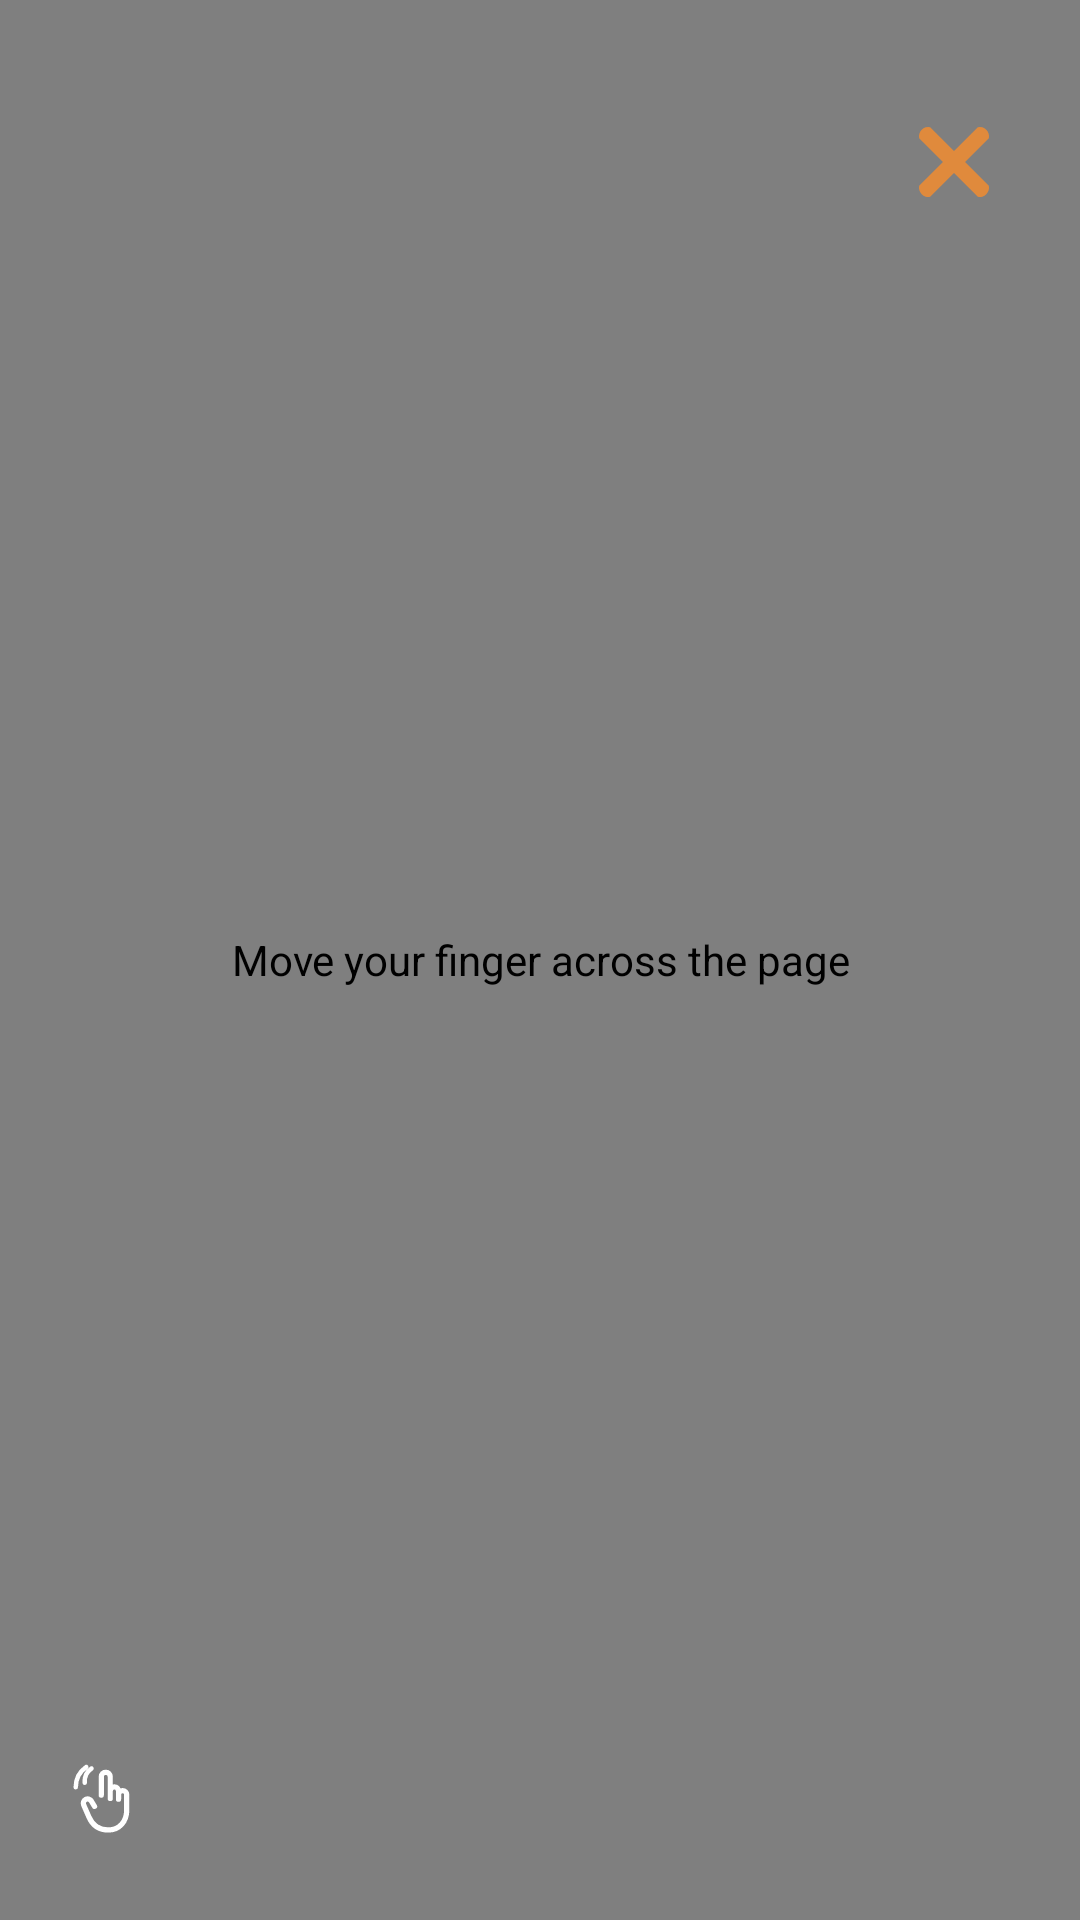

Screen size 1080px×1920px. Icon name, then its box in pixels as (x1, y1, x2, y2):
Done for now: (919, 127, 989, 197)
game tap: (73, 1764, 130, 1833)
